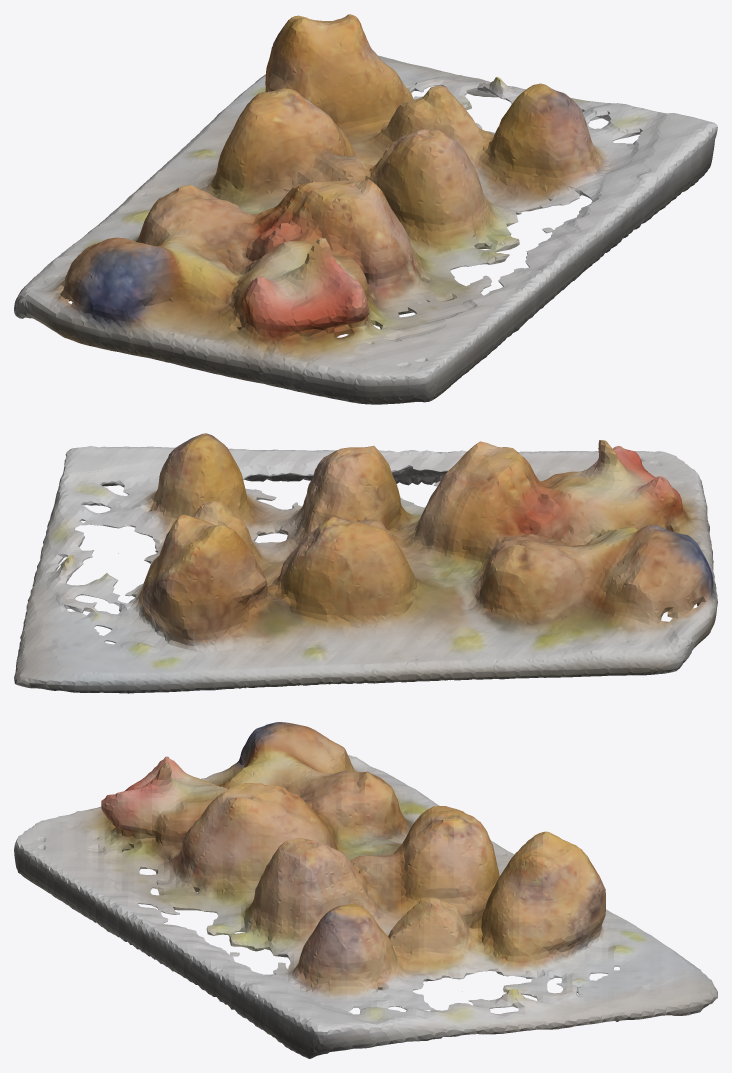
The model's file is tandoori veg momos.glb.
The picture shows the model from 3 angles, top to bottom: view 1: azimuth 30°, elevation 25°; view 2: azimuth 150°, elevation 25°; view 3: azimuth 270°, elevation 25°; orthographic projection. The views are drawn at different scales.
Parts seen in each view (by area): view 1: world; view 2: world; view 3: world.
Boxes of the visible parts, x1,y1,x2,y2 form: world: (14,14,717,404); world: (14,433,717,693); world: (14,722,717,1058).
Bounding box in the file's own units: 1.94 × 0.3777 × 1.95.
